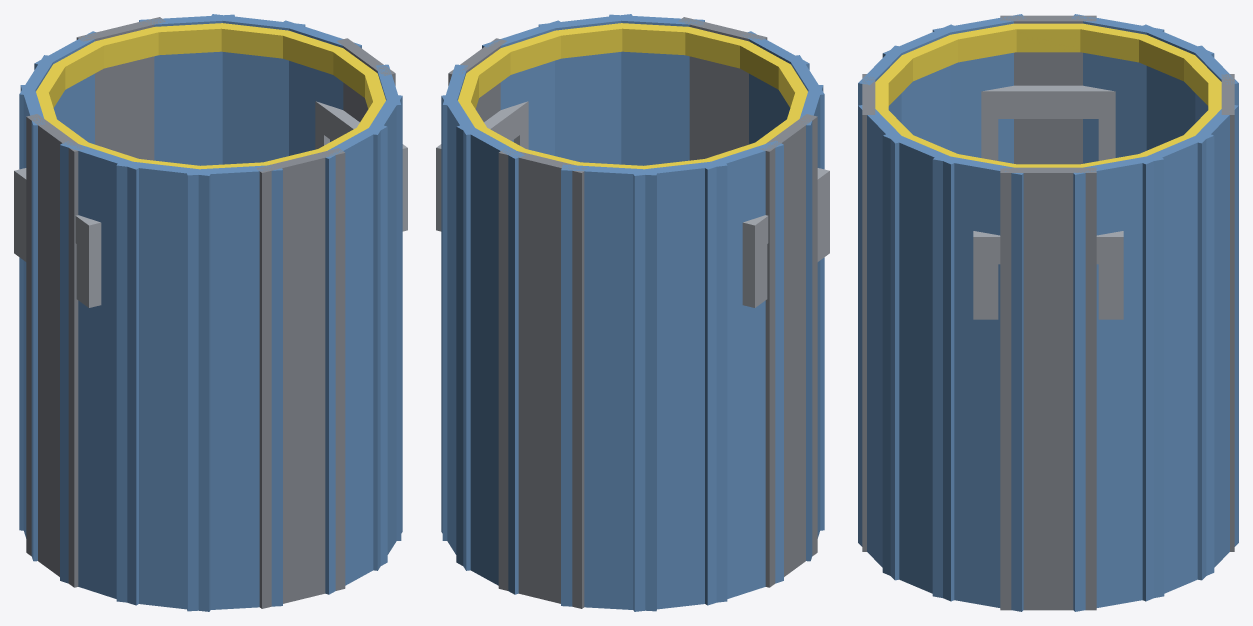
The model's file is bucket.glb.
The picture shows the model from 3 angles, left to right: view 1: azimuth 30°, elevation 25°; view 2: azimuth 150°, elevation 25°; view 3: azimuth 270°, elevation 25°; orthographic projection.
Parts seen in each view (by area): view 1: bucket; view 2: bucket; view 3: bucket.
Part boxes in pixels (x1,y1,x2,y2): bucket: (14,14,407,611); bucket: (436,14,829,611); bucket: (858,14,1238,611).
Bounding box in the file's own units: 0.75 × 0.95 × 0.75.
